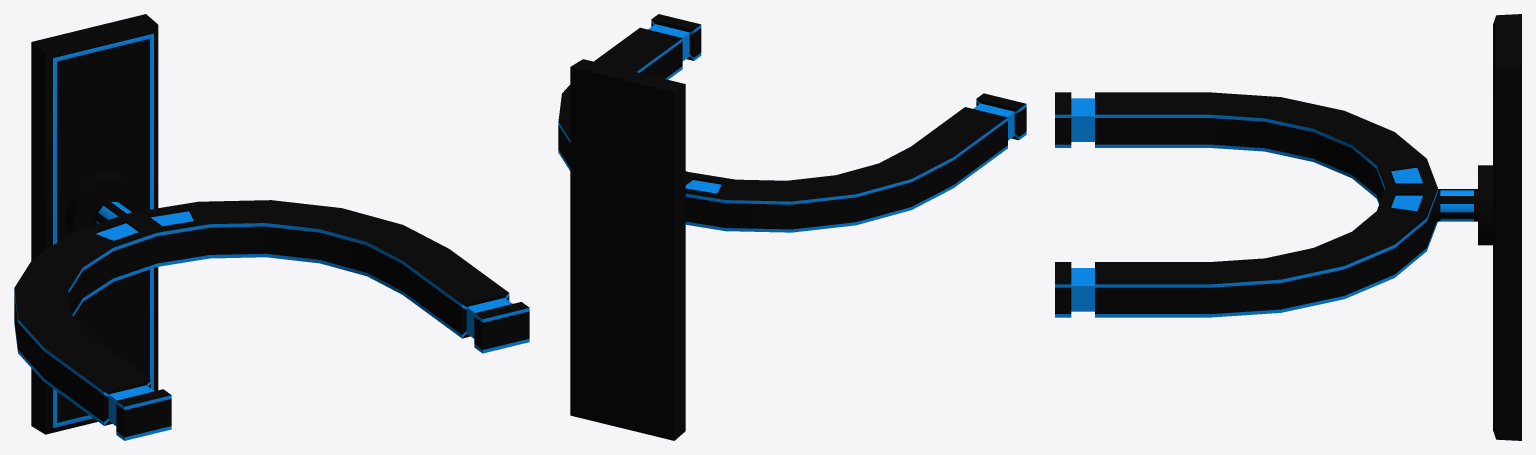
The model's file is Rotating u shaped.FBX.
3 views of the same model, side by side, from view 1: azimuth 30°, elevation 25°; view 2: azimuth 150°, elevation 25°; view 3: azimuth 270°, elevation 25° (orthographic). The views are drawn at different scales.
Parts seen in each view (by area): view 1: Tube004, Base_022; view 2: Base_022, Tube004; view 3: Tube004, Base_022.
Part boxes in pixels (x1,y1,x2,y2): Tube004: [14, 172, 529, 440]; Base_022: [31, 14, 158, 434]; Base_022: [570, 59, 685, 440]; Tube004: [558, 14, 1026, 232]; Tube004: [1055, 92, 1492, 317]; Base_022: [1493, 14, 1521, 440].
Size of the model in its own units: 232 by 210 by 238.
